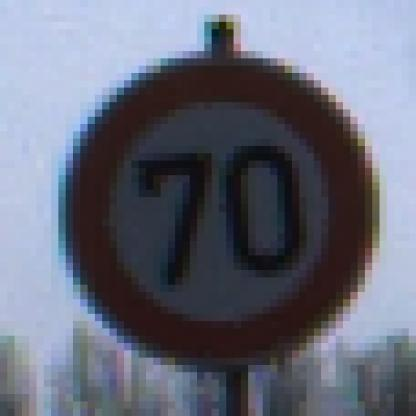Speed Limit 70: (67, 62, 369, 364)
